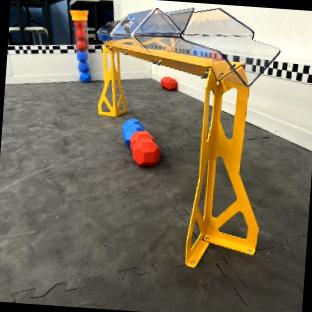V5_BLUE: (123, 118, 159, 165)
